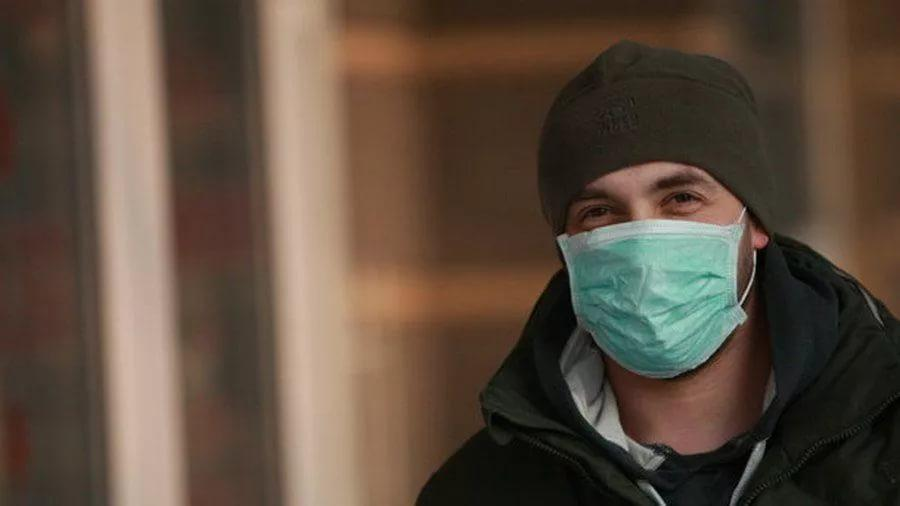mask: (558, 160, 748, 370)
